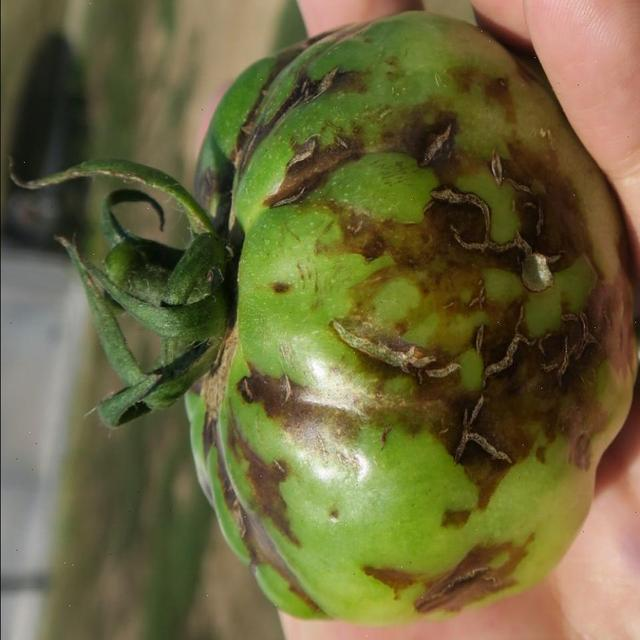Spotted wilt Virus Fruit: (163, 207, 534, 588)
